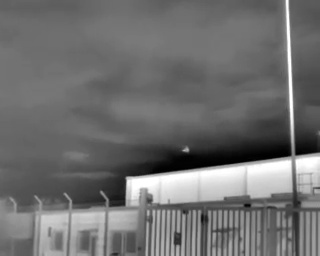HELICOPTER: (179, 142, 196, 158)
